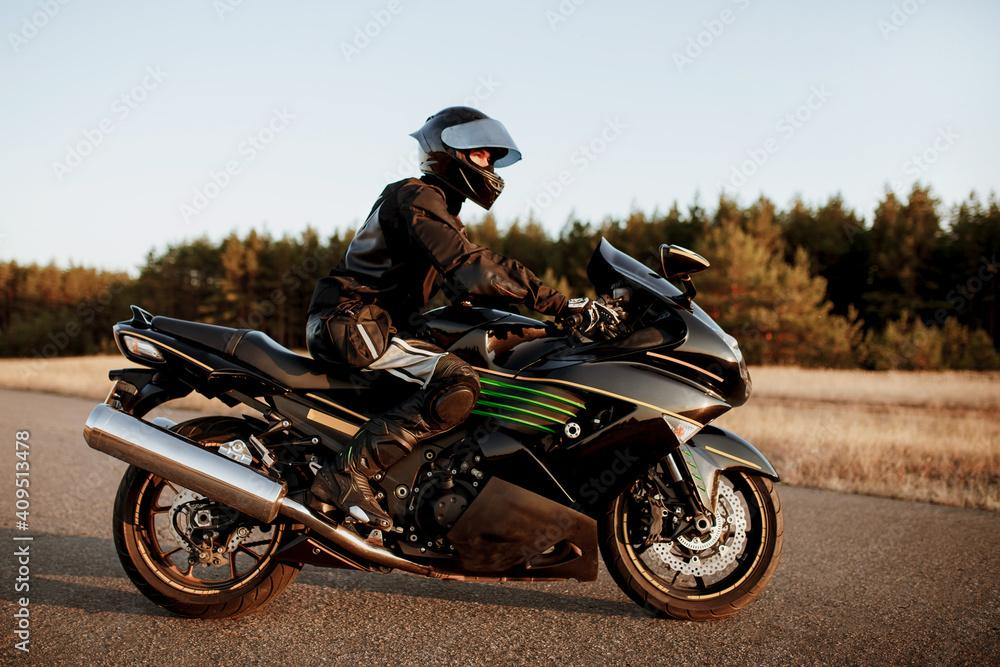helmet: (408, 105, 523, 211)
